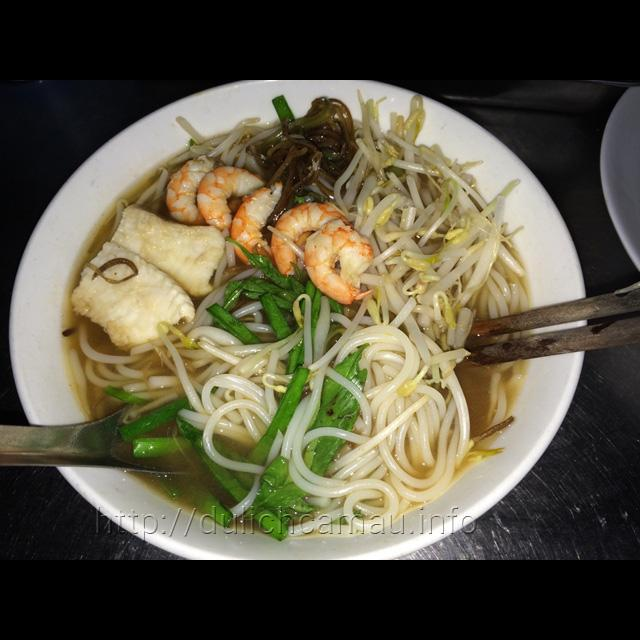bun: (74, 263, 479, 505), (481, 267, 537, 325)
bun ca: (4, 117, 598, 560)
ca: (66, 236, 199, 352), (107, 201, 229, 300)
tom: (227, 176, 315, 269), (265, 194, 355, 281), (299, 215, 377, 310), (193, 162, 266, 235), (159, 151, 223, 233)
